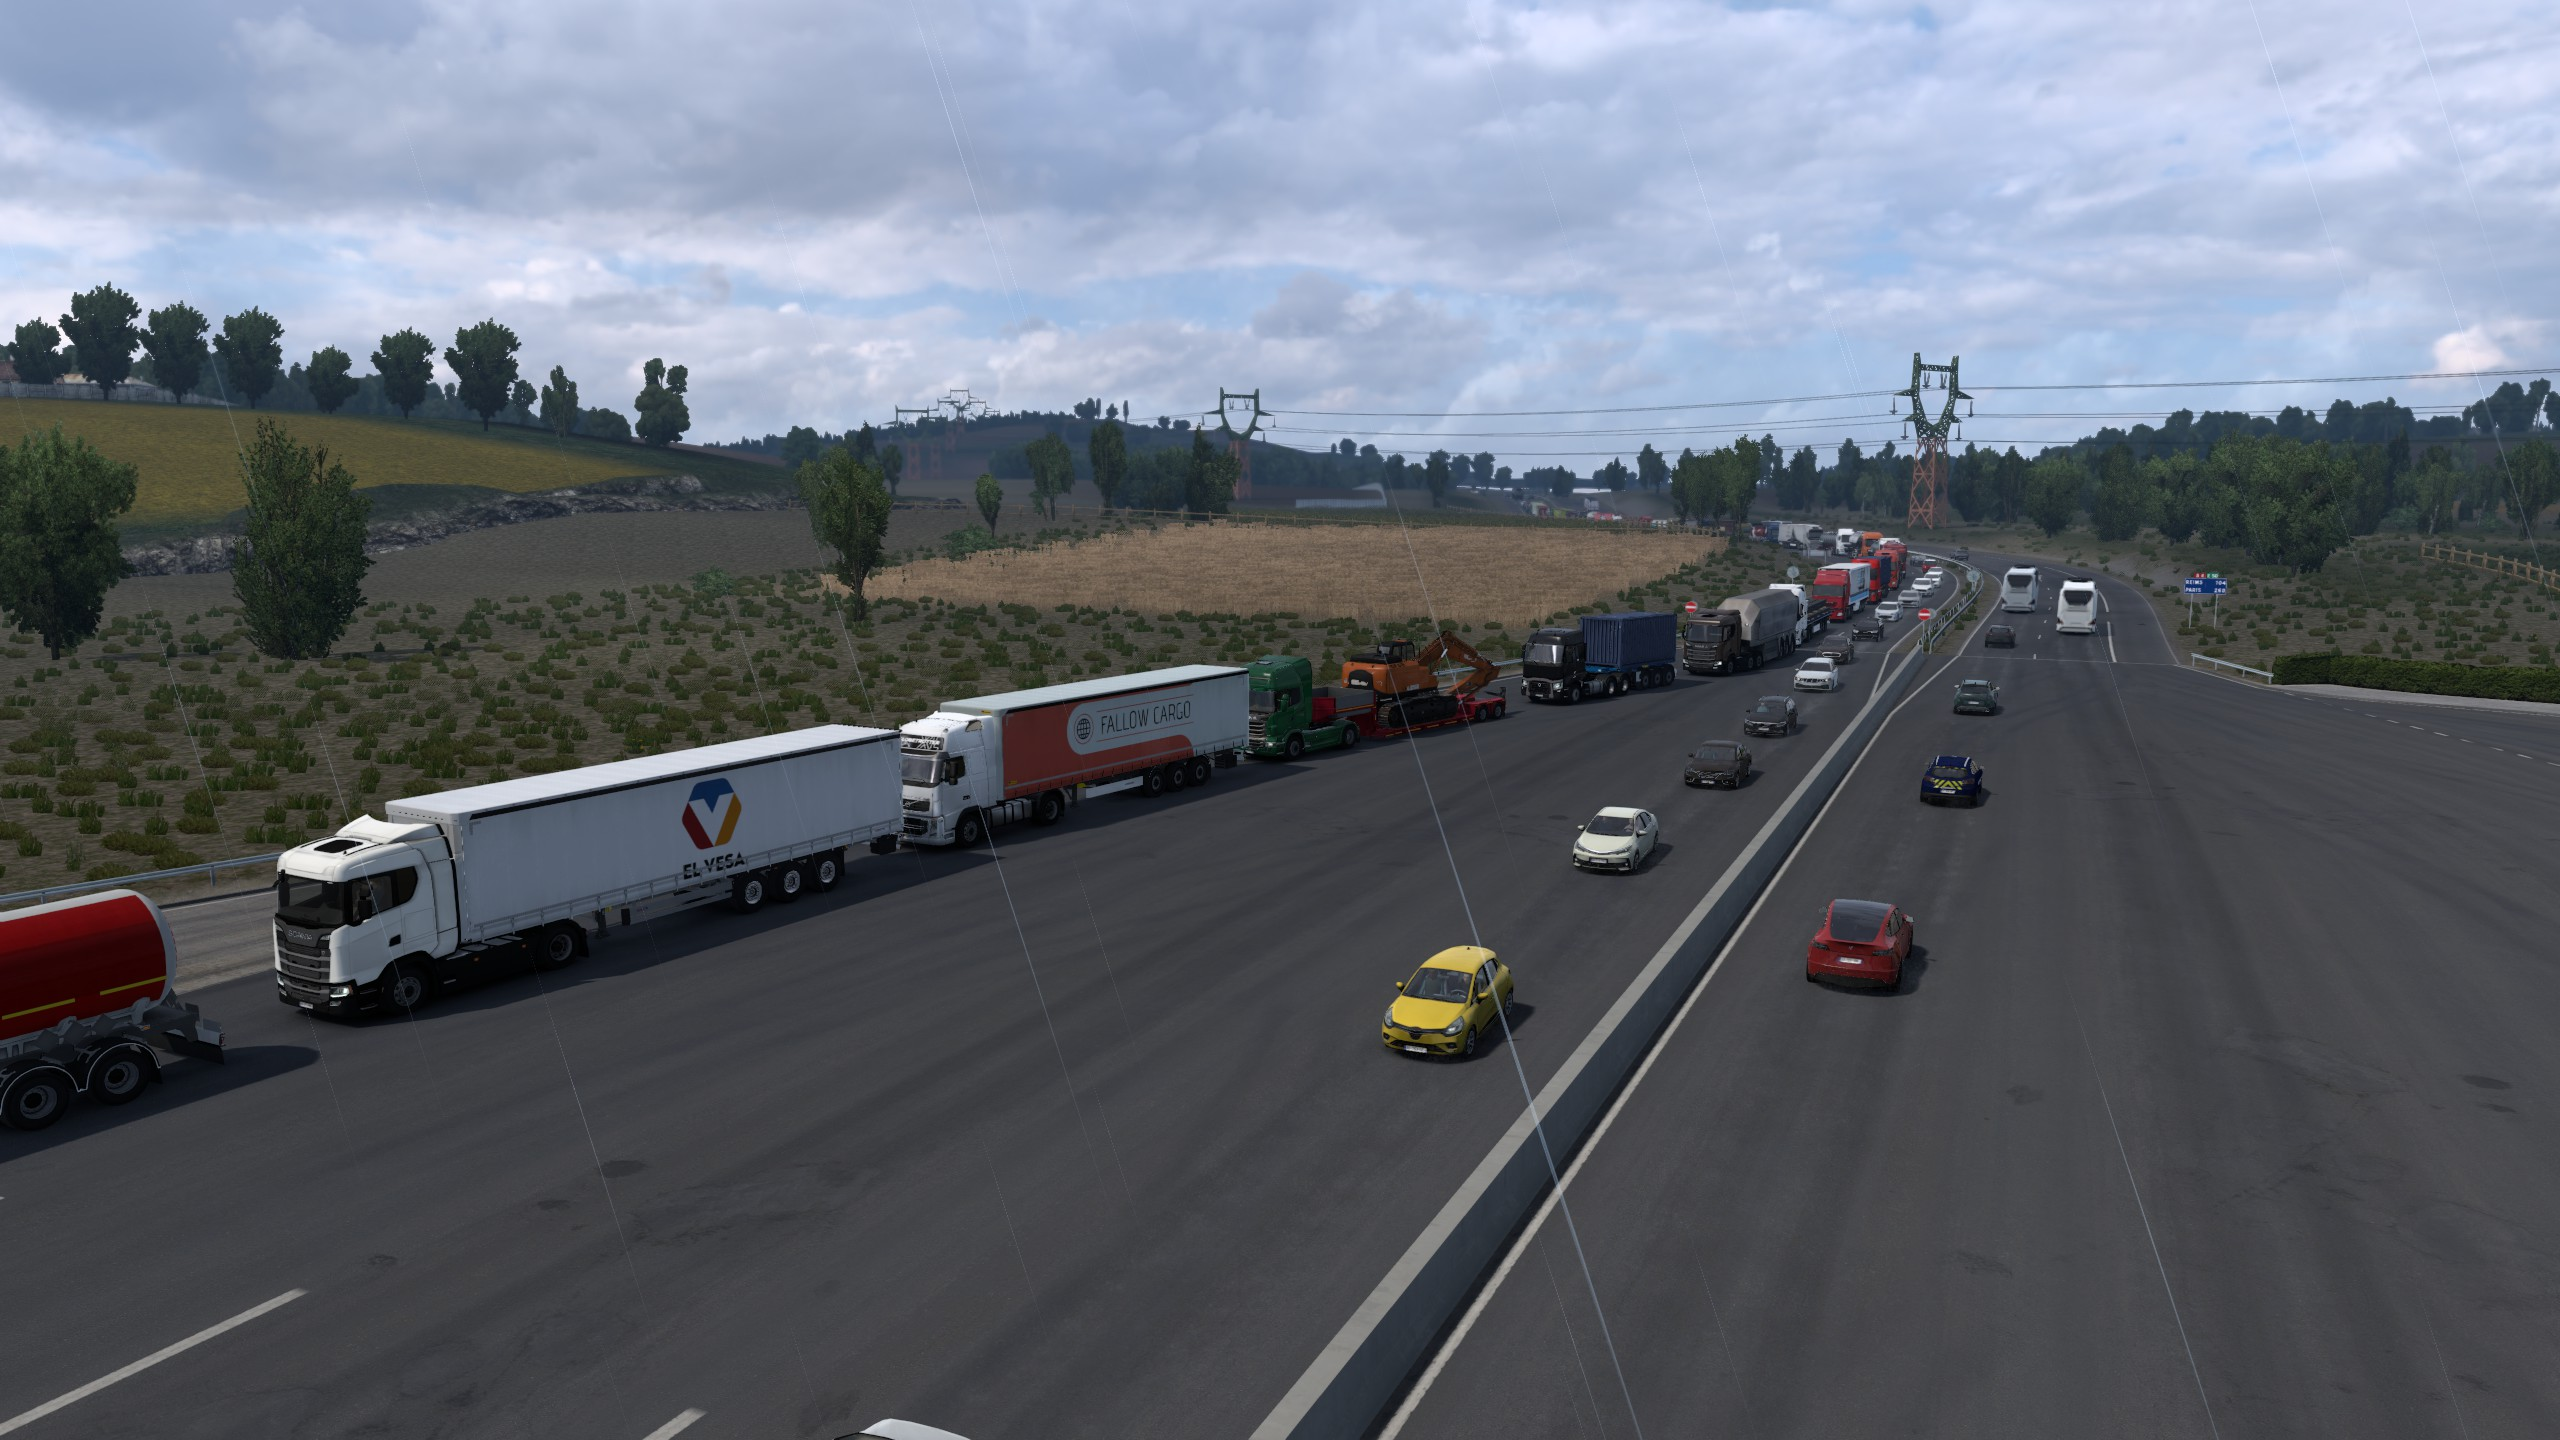bus: (2061, 573, 2115, 654), (2004, 563, 2034, 615)
car: (1366, 955, 1514, 1078), (1806, 897, 1925, 1007), (1560, 798, 1672, 893), (1679, 730, 1762, 809), (1924, 744, 1996, 814), (1741, 682, 1799, 744), (1793, 649, 1843, 689)
truck: (255, 710, 900, 1032), (905, 649, 1245, 858), (1254, 628, 1505, 740), (1523, 607, 1677, 707), (1948, 673, 2018, 724)
